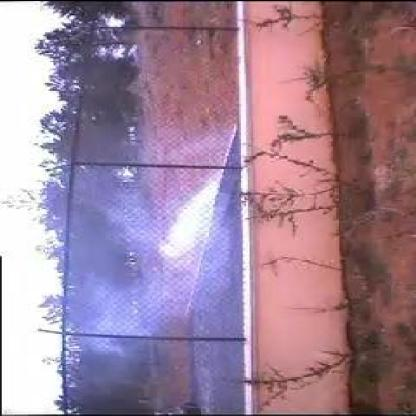-: (76, 168, 240, 338)
